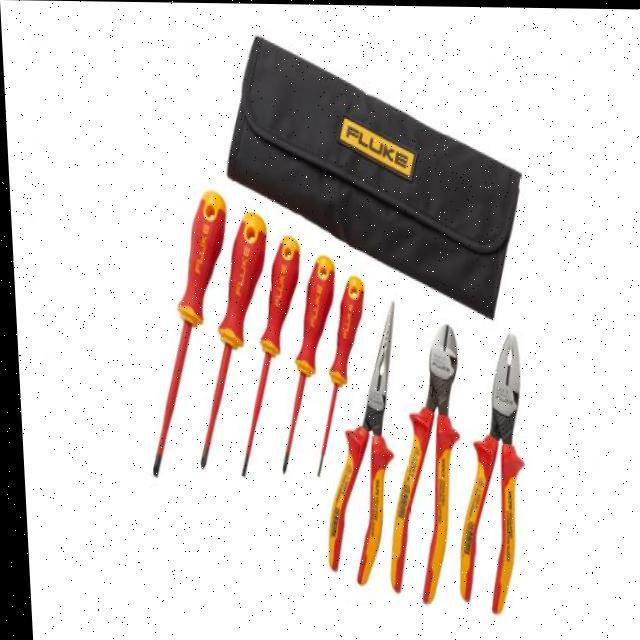Screwdriver: (148, 192, 223, 476), (197, 213, 264, 468), (237, 236, 296, 476), (278, 255, 332, 471), (314, 276, 360, 475)
